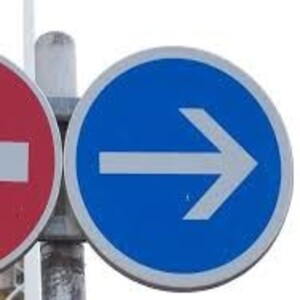trun_right: (63, 45, 292, 288)
